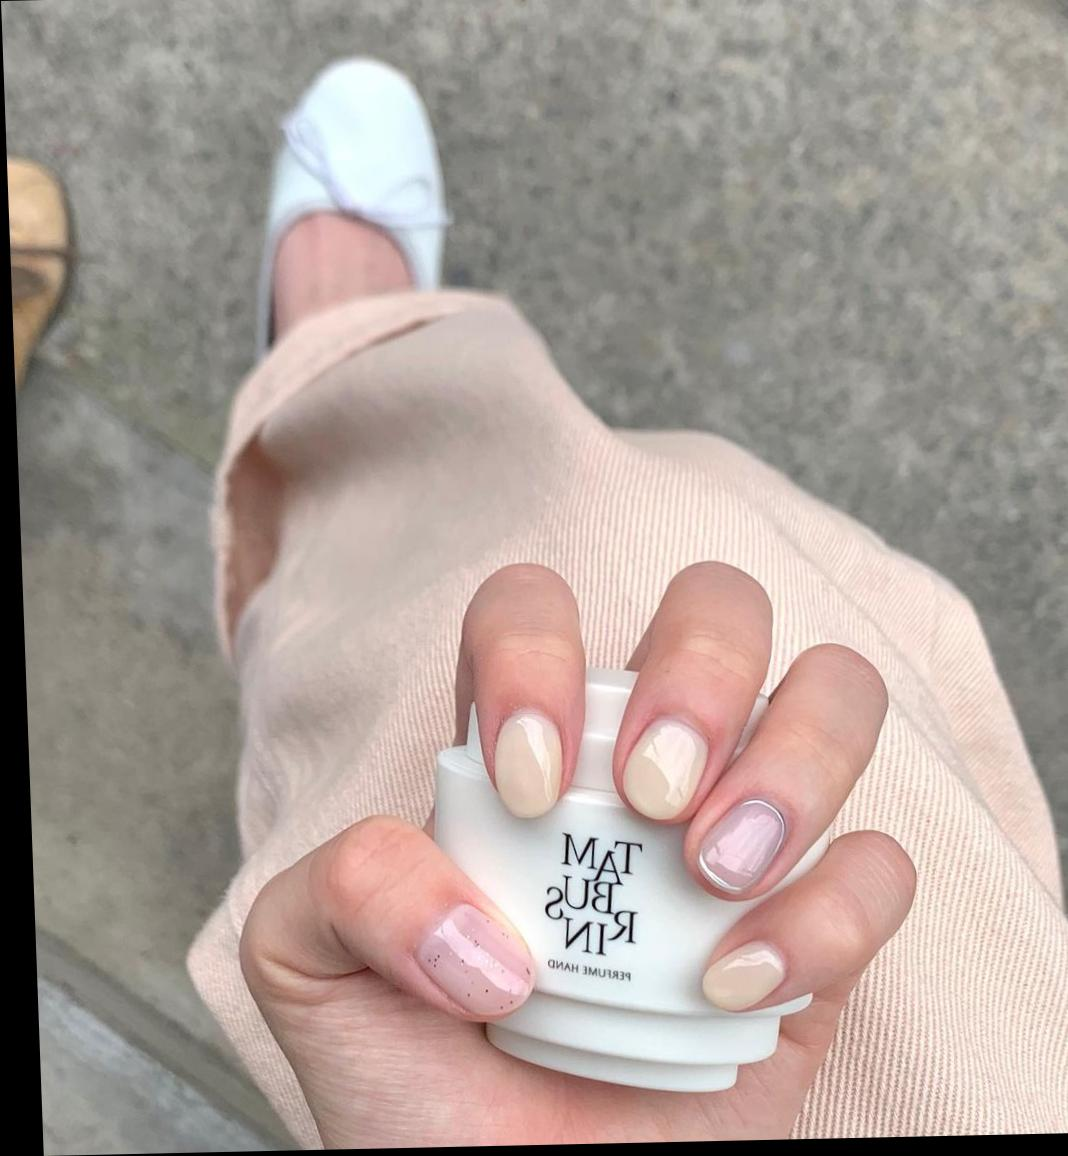nail: (413, 898, 539, 1023), (618, 712, 713, 822), (694, 794, 790, 895), (489, 706, 566, 819), (700, 936, 790, 1011)
